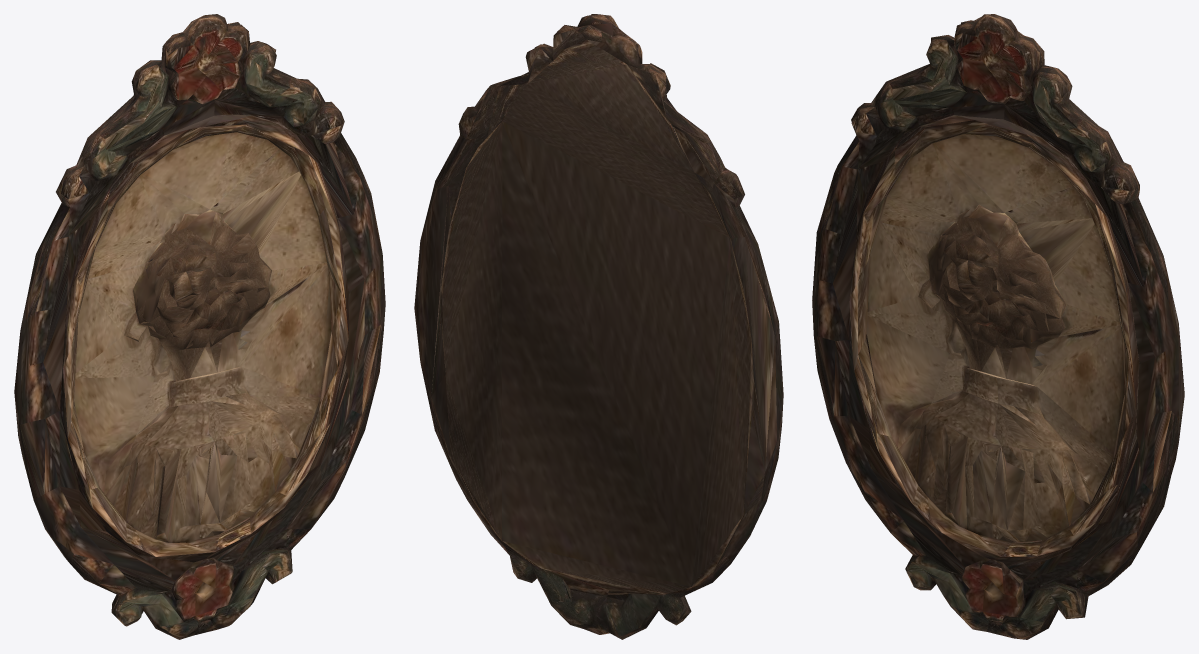
File: up_portrait_oval_a.glb
The picture shows the model from 3 angles, left to right: view 1: azimuth 30°, elevation 25°; view 2: azimuth 150°, elevation 25°; view 3: azimuth 330°, elevation 25°; orthographic projection.
Visible parts, largest first — view 1: up_portrait_oval_a; view 2: up_portrait_oval_a; view 3: up_portrait_oval_a.
Boxes of the visible parts, <box> form: up_portrait_oval_a: <box>14,14,385,639</box>; up_portrait_oval_a: <box>414,14,783,639</box>; up_portrait_oval_a: <box>812,14,1184,639</box>.
Size of the model in its own units: 0.3441 by 0.55 by 0.0203.
Materials: 1 (1 with a texture image).
